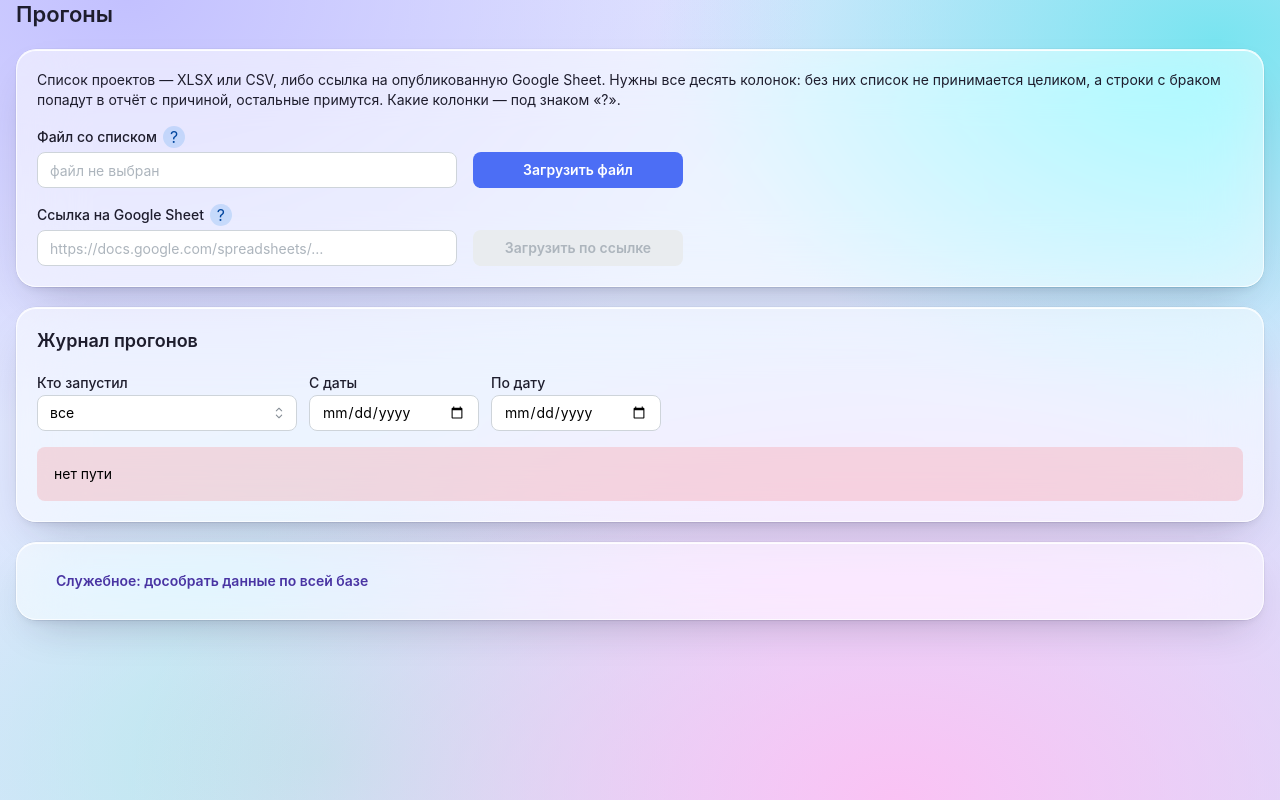
Test: экран загрузки: смета и запуск › E10: «остаток неизвестен» — своя причина, а не «мало квоты»
Click the button "Служебное: дособрать данные по всей базе".
click(212, 581)  # box 37,563 -> 387,599
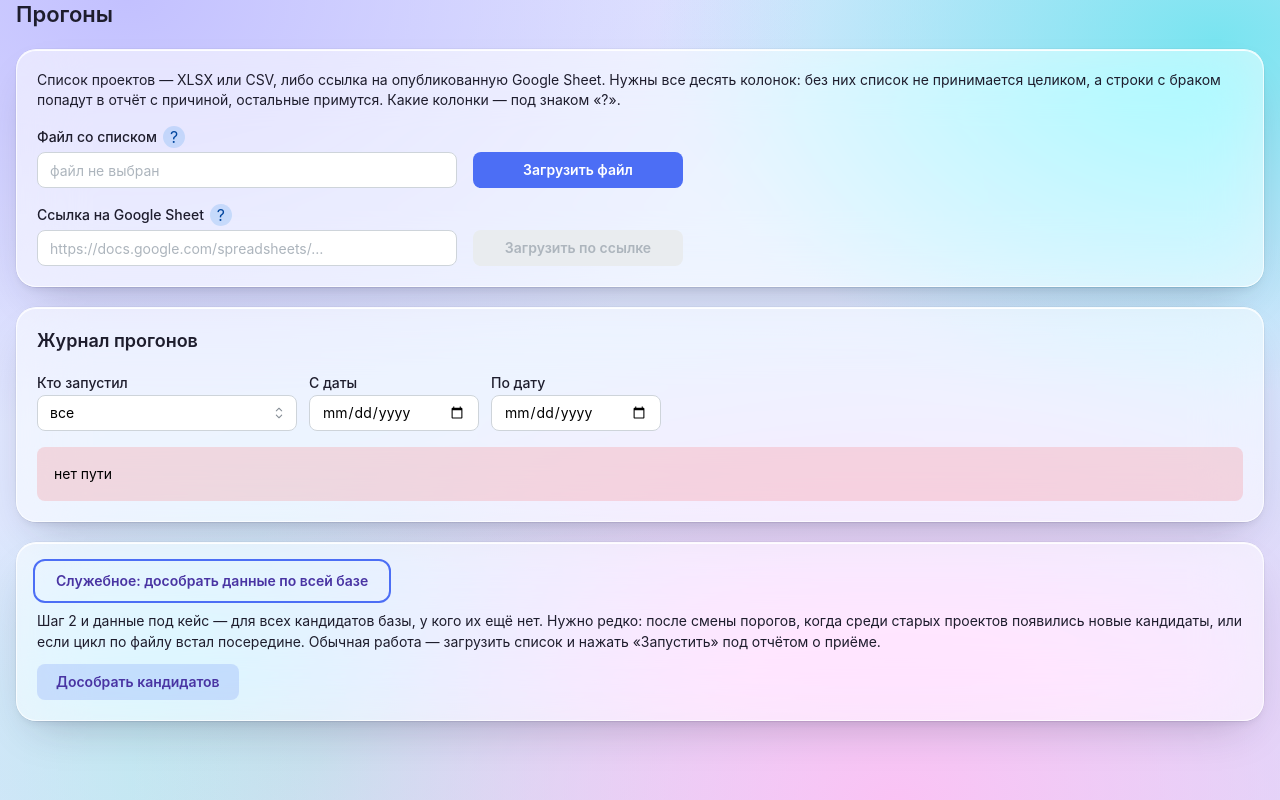
Click the button "Дособрать кандидатов".
click(138, 682)  # box 37,664 -> 239,700
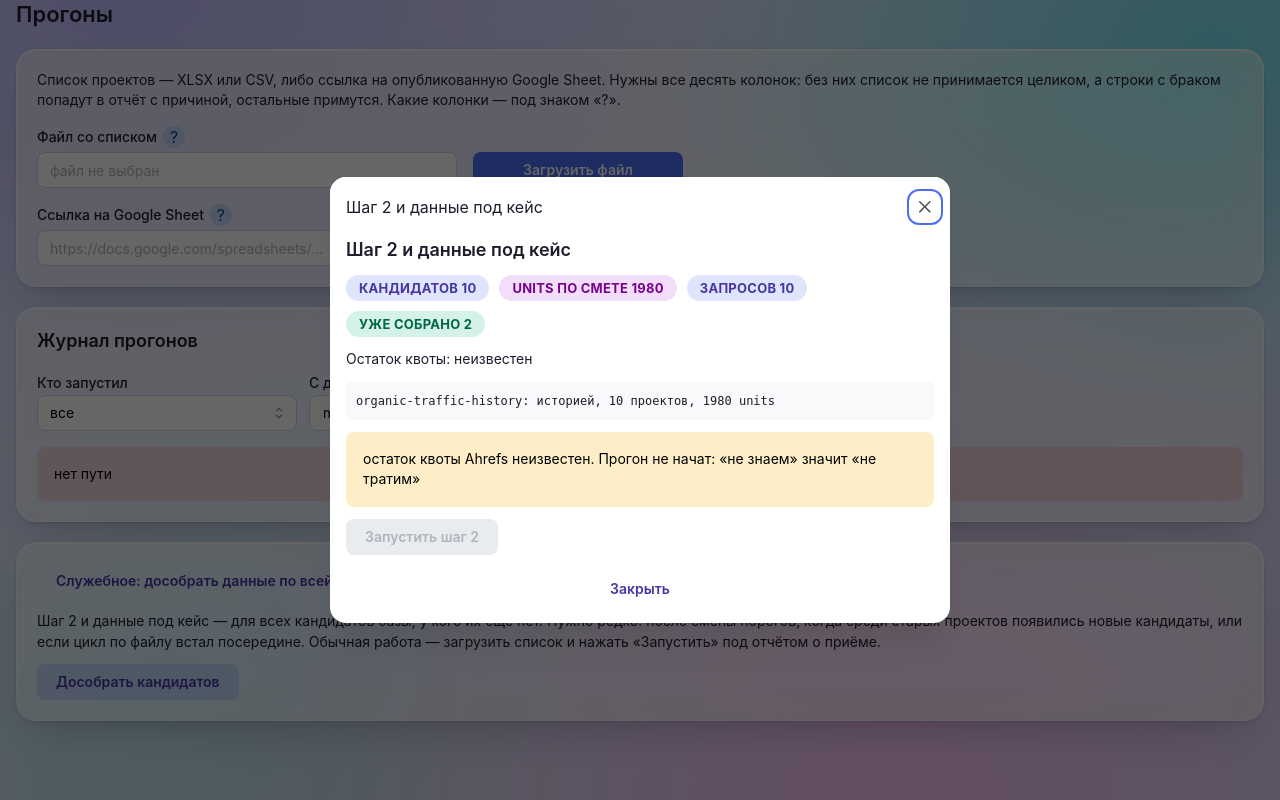
Result: the dialog is shown at 330,177 -> 950,623
Result: the text "остаток квоты Ahrefs неизвестен" is shown at 363,450 -> 876,488
Result: the text "Остаток квоты: неизвестен" is shown at 346,350 -> 532,367
